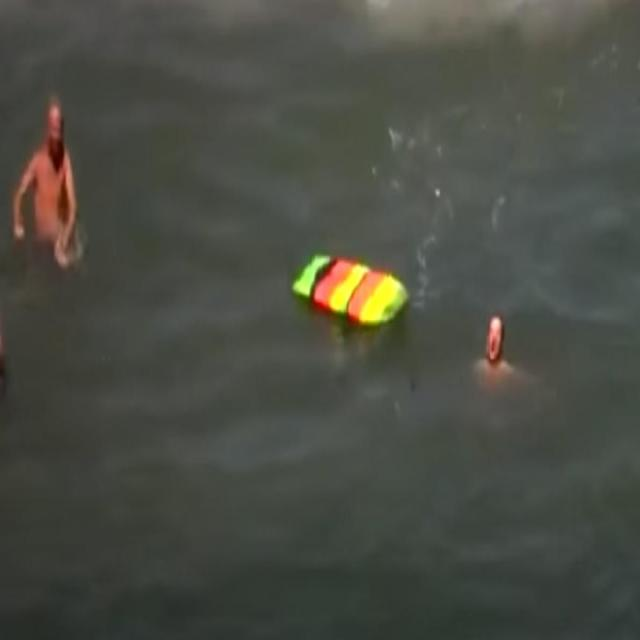Out of Water: (11, 99, 78, 254), (464, 296, 521, 383)
